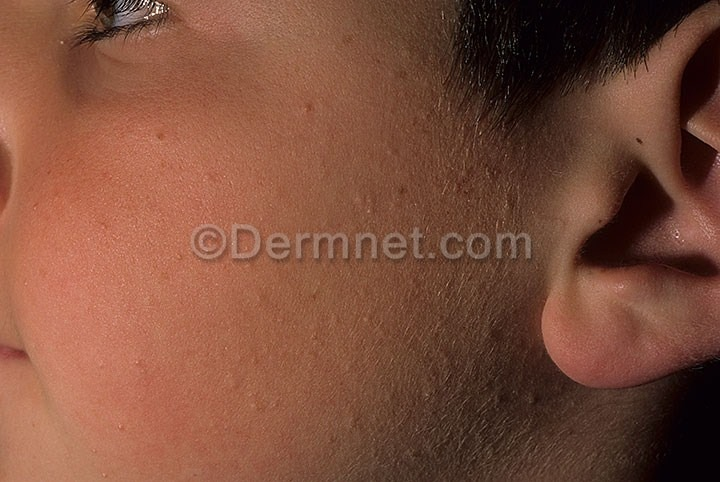Eczema: (28, 105, 245, 456)
